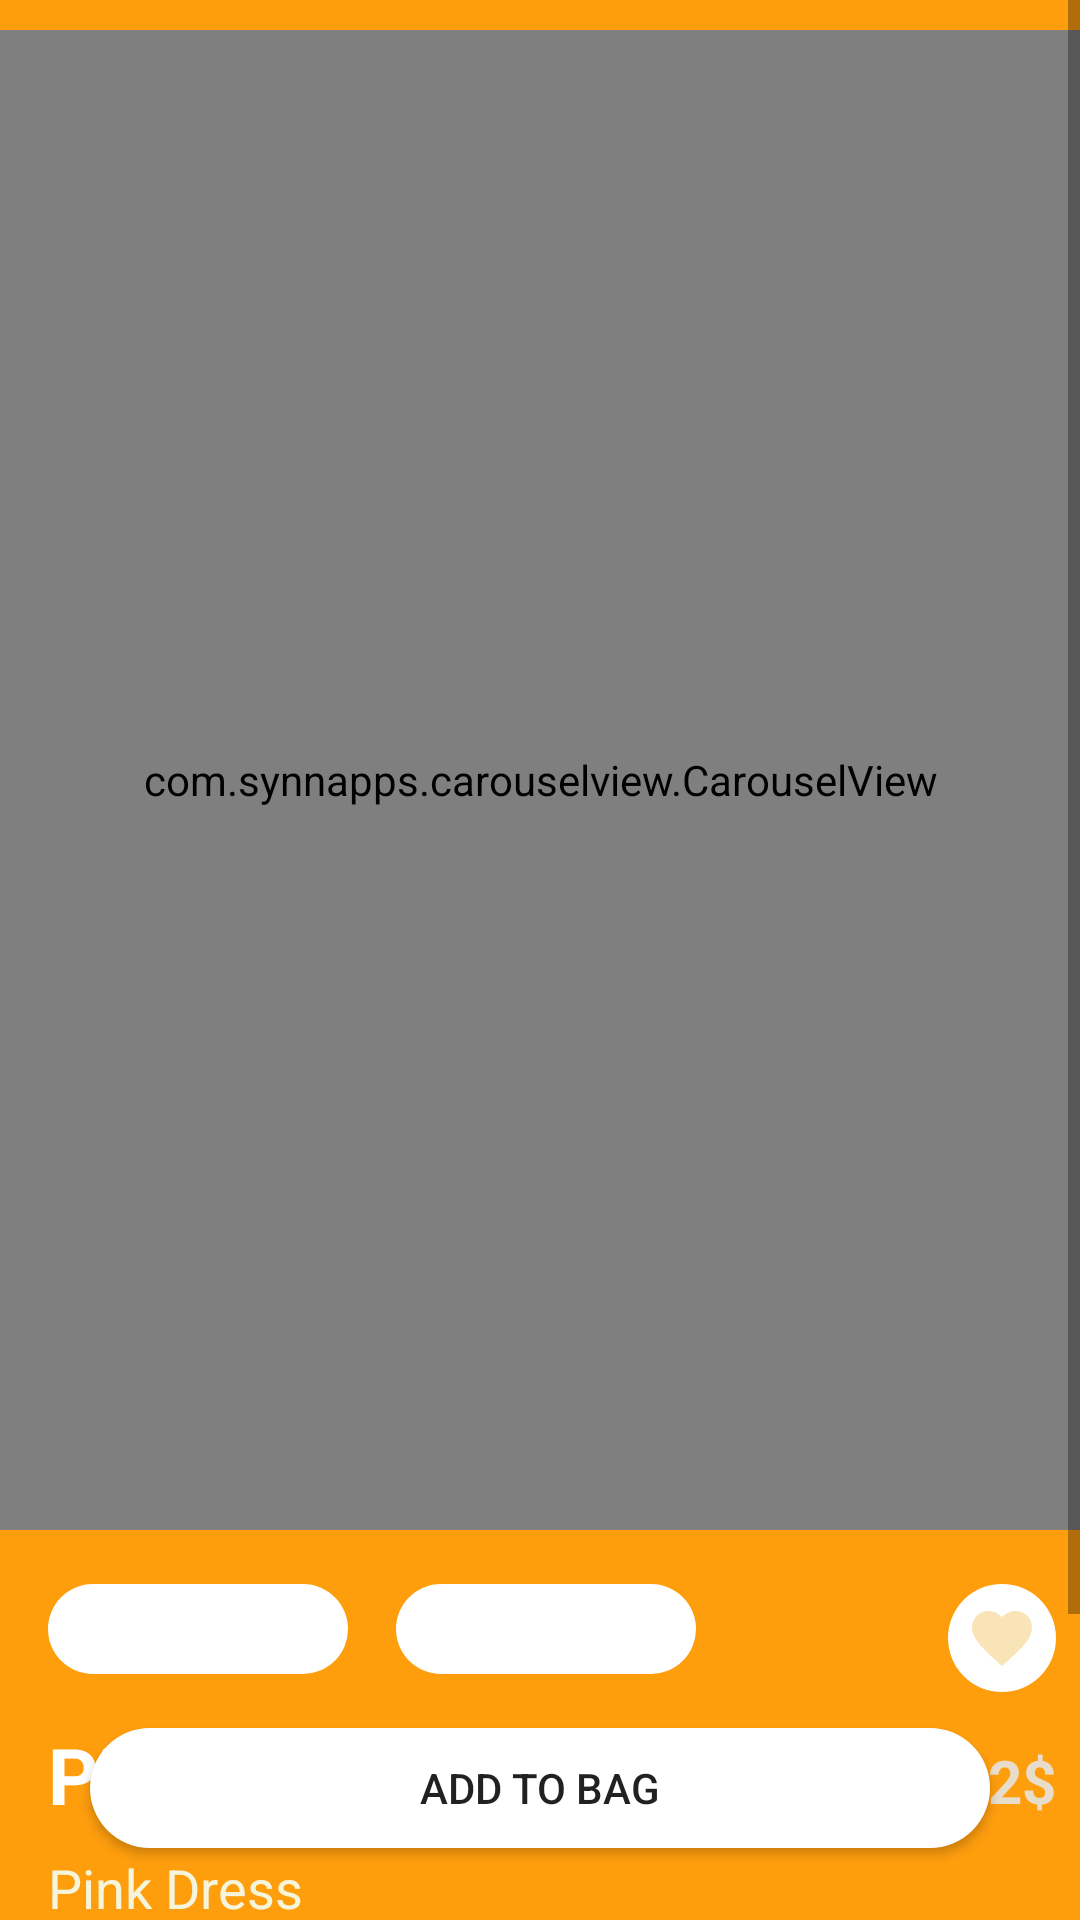

Icon click points for this 1080 x 1920 phone screenshot, format [x,y]:
favorite: [1002,1638]
